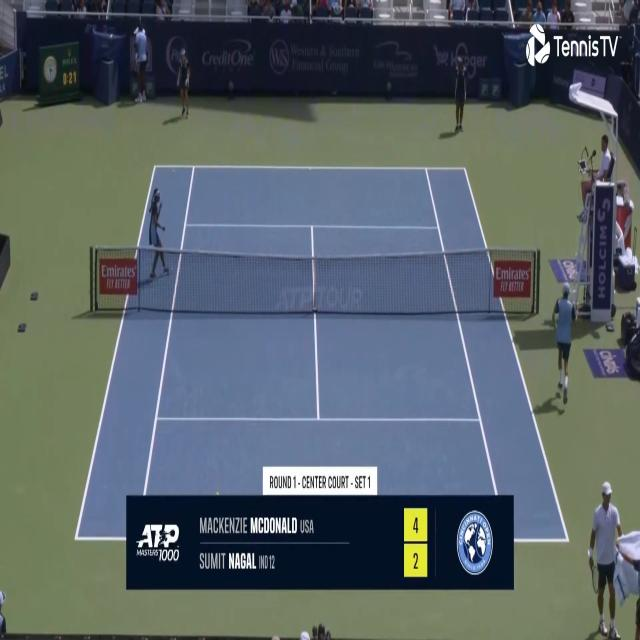tennis-player: (586, 478, 640, 640)
